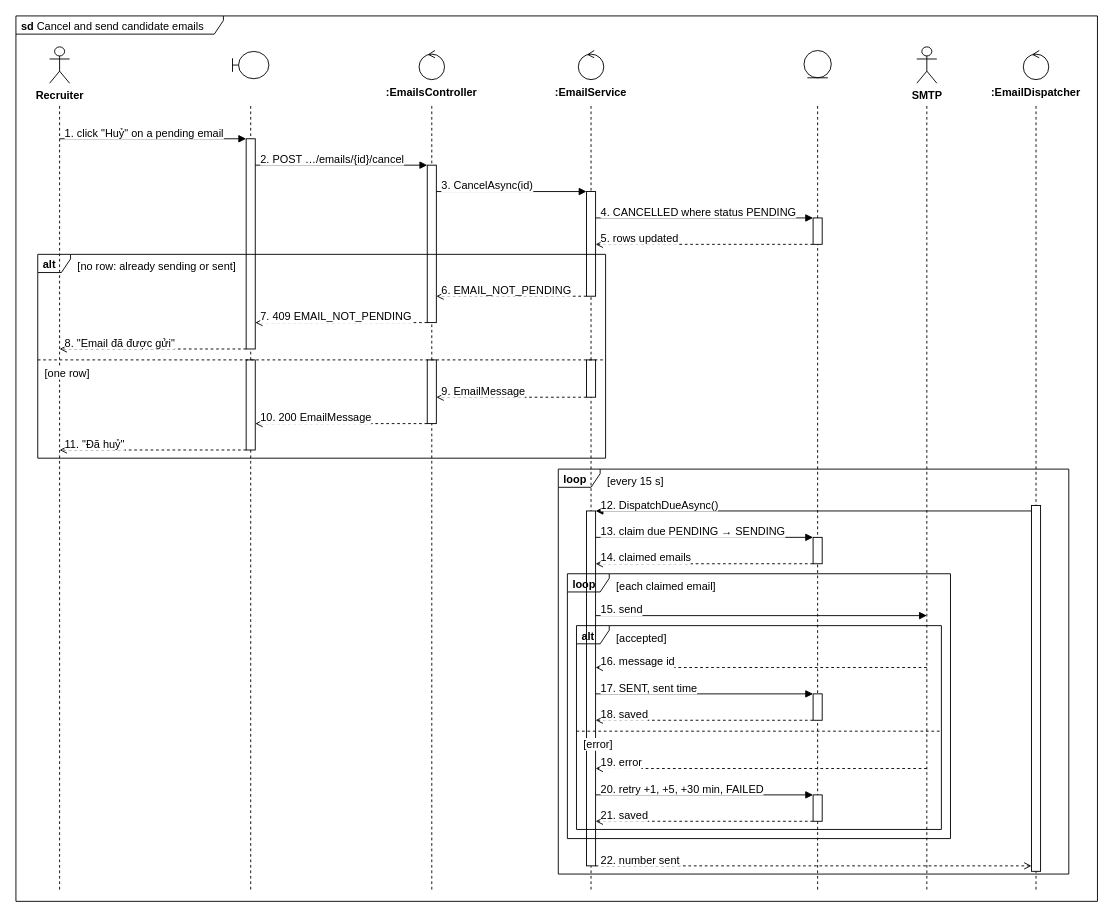
Some shapes in this 1114 by 917 pixel diagram are drawn without their labels. Here are the shapes that lost their labels. From the top down, the box of each, then its label:
(232, 51, 269, 79): :Emails tab
(803, 50, 831, 78): :Database
